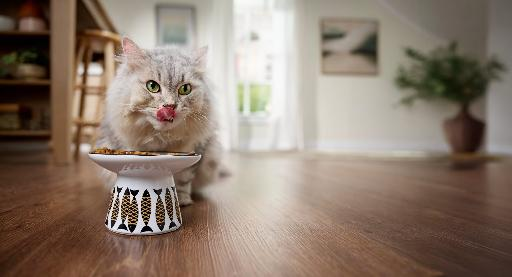cat_eating: (88, 36, 220, 236)
